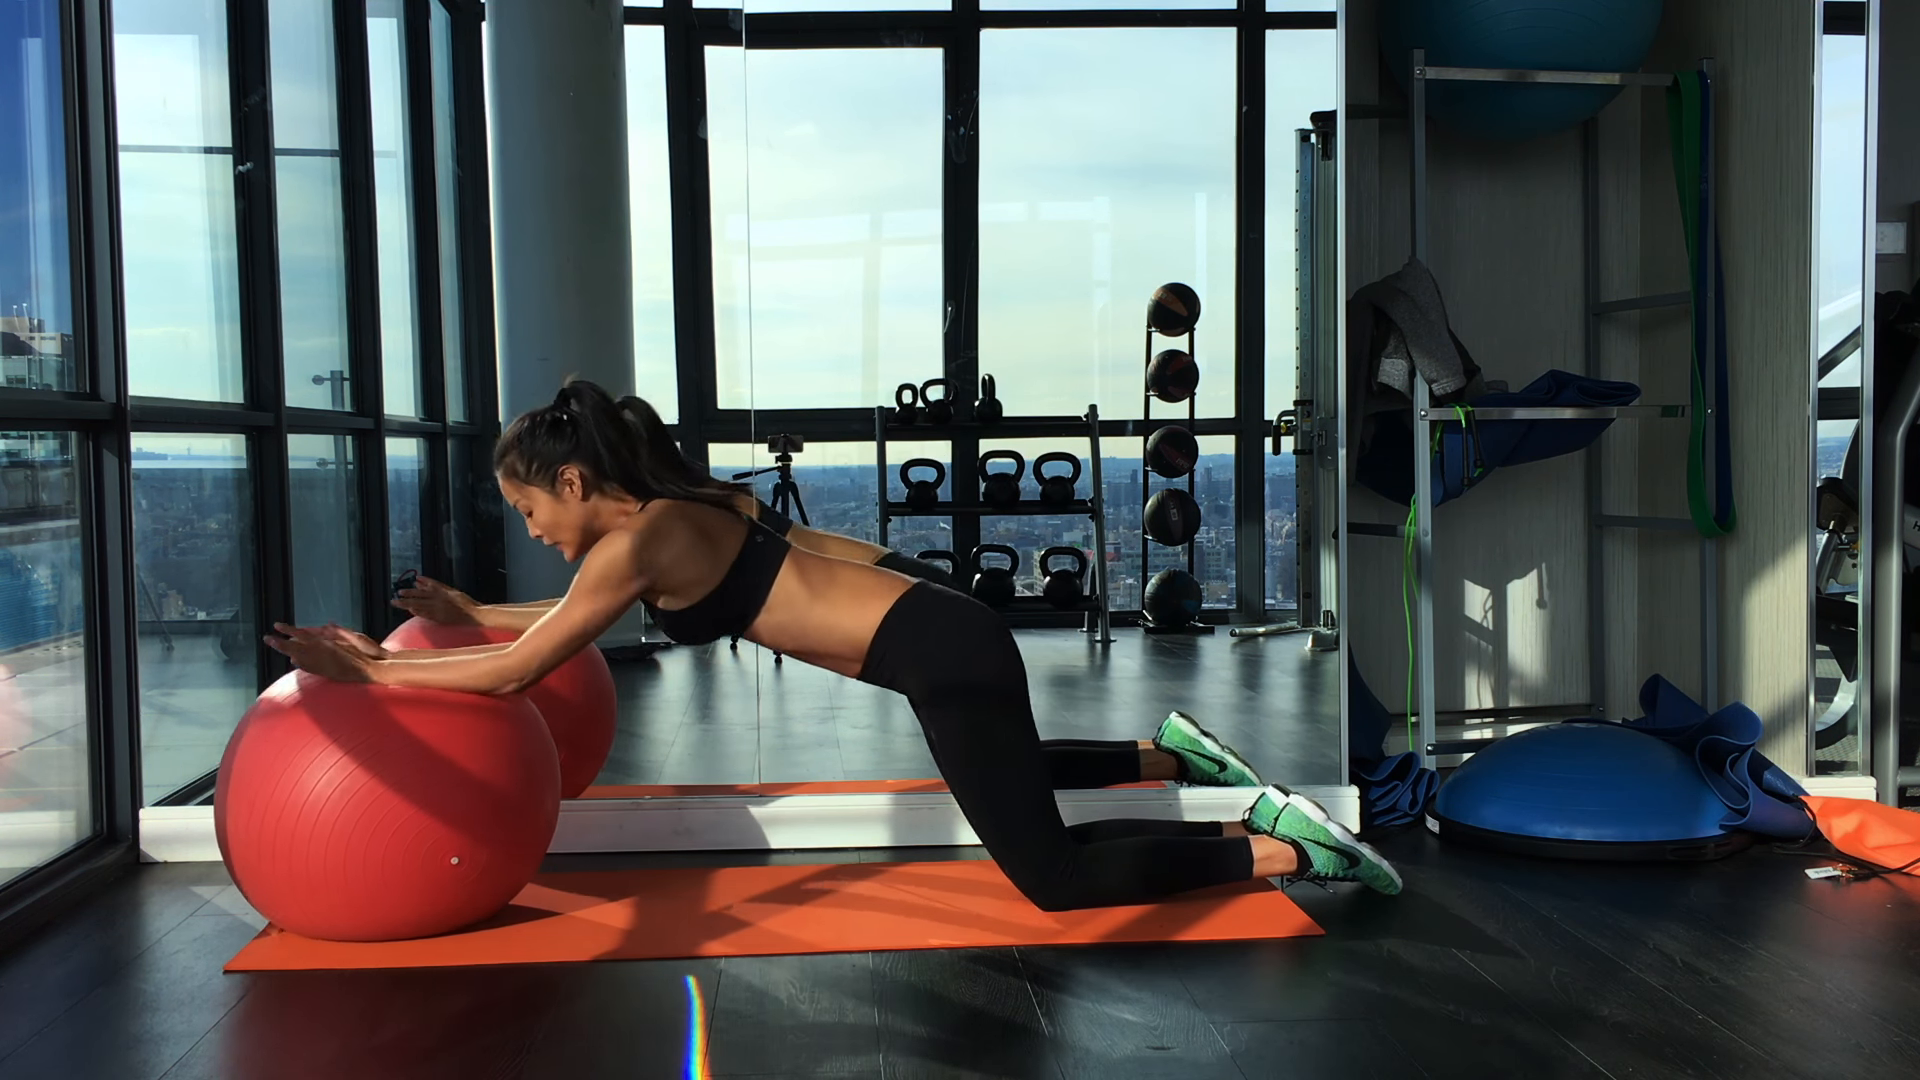yogaball: (211, 659, 570, 949)
